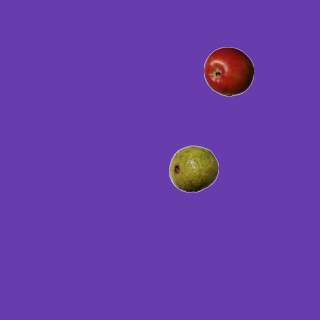Apple Braeburn: (203, 46, 253, 96)
Guava: (168, 143, 218, 193)
